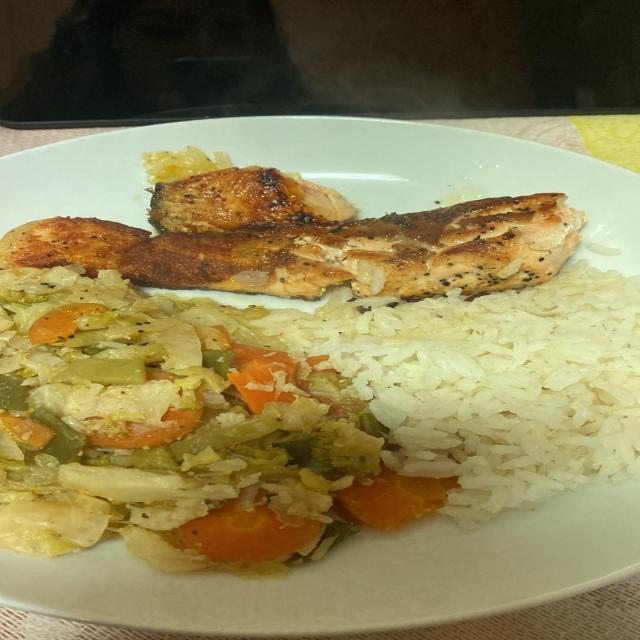garbage: (142, 146, 233, 186)
plate: (0, 116, 639, 636)
rice: (260, 265, 639, 524)
salmon: (0, 167, 583, 300)
vegetables: (0, 271, 457, 574)
